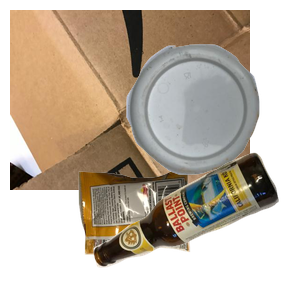cardboard: (10, 10, 250, 190)
glass: (91, 150, 300, 300)
plastic: (124, 42, 300, 210)
trash: (76, 159, 259, 300)
